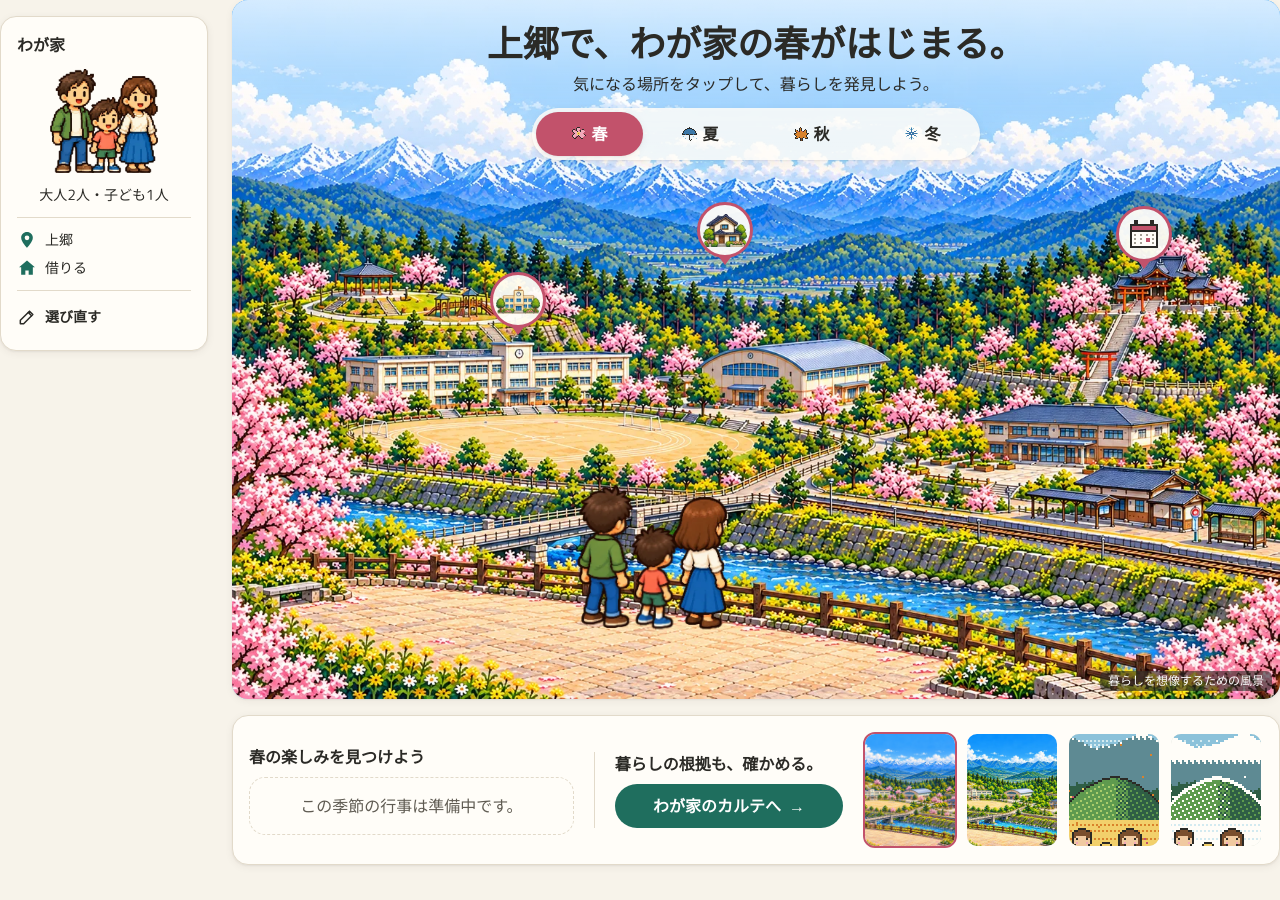
Test: KurashiView：上郷・春の風景とピン（028） › 住まいのピン：借りるときは家賃を「データ未取得」と出す
Click the button named "住まい".
click(724, 234)  # box x1=696 y1=202 x2=752 y2=266
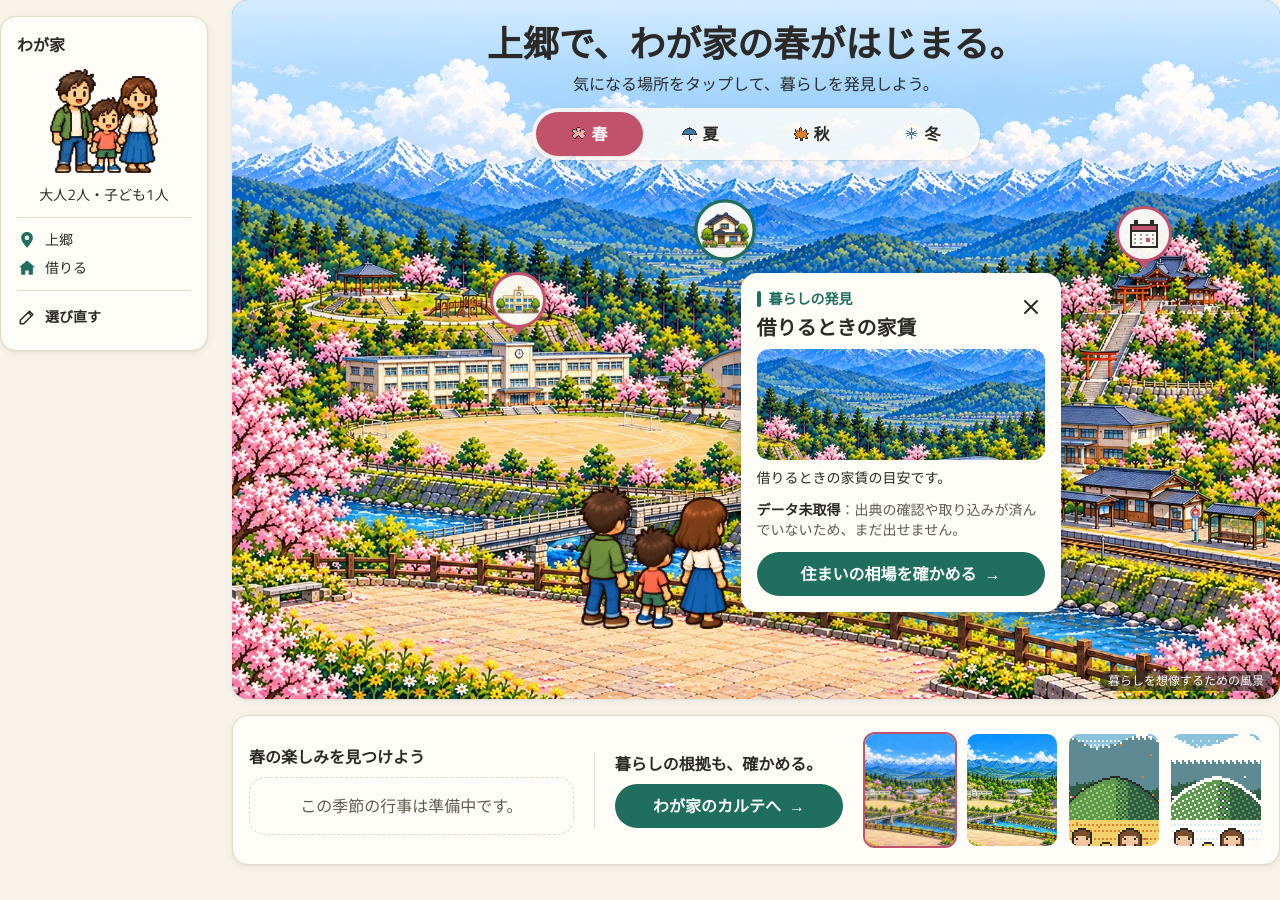
Expected: the dialog "借りるときの家賃" shows "データ未取得", x1=756 y1=500 x2=840 y2=519
